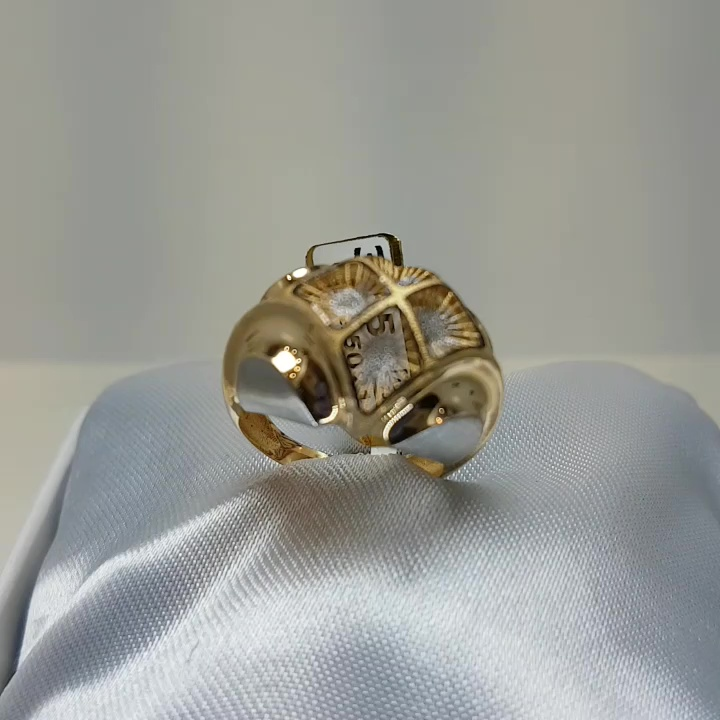Ring 2: (203, 226, 511, 494)
